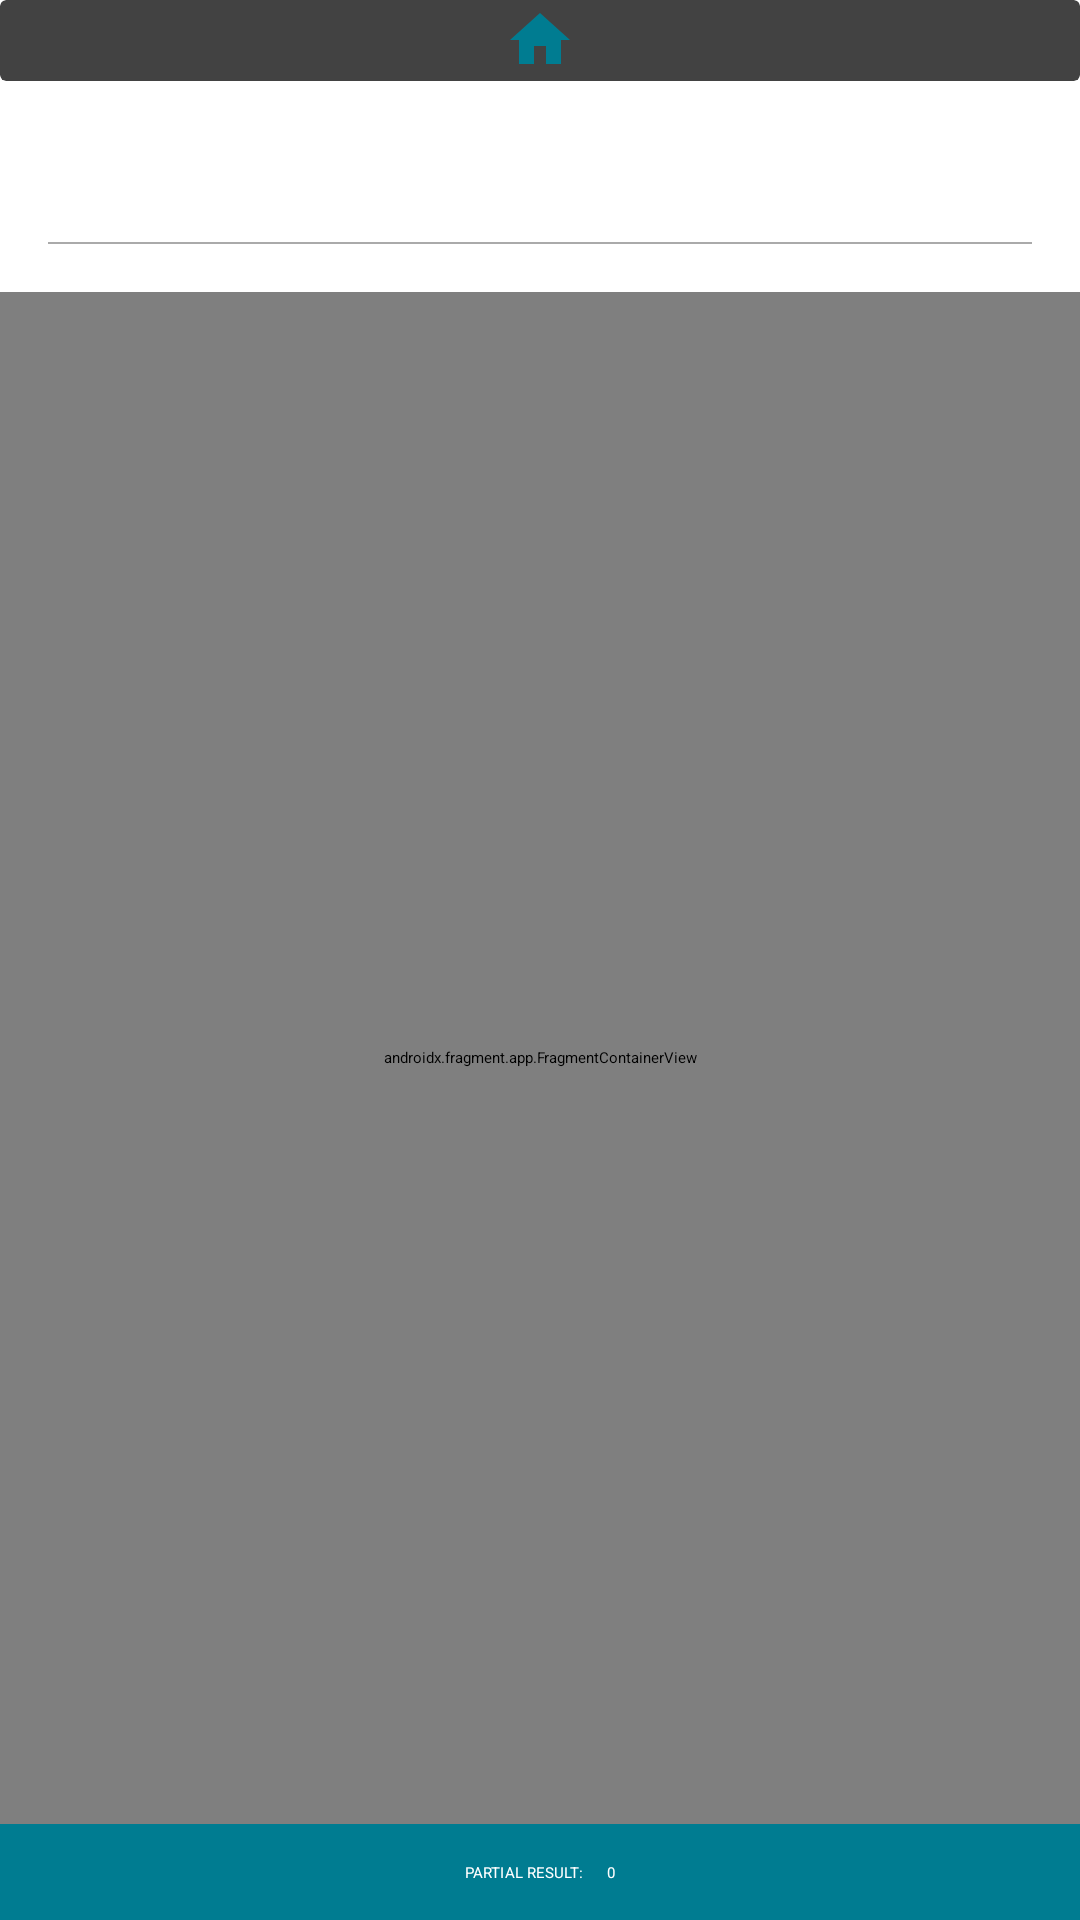

Icons on this 1080x1920 Android screen, each with its box as (x1, y1, x2, y2):
home: (510, 13, 570, 64)
